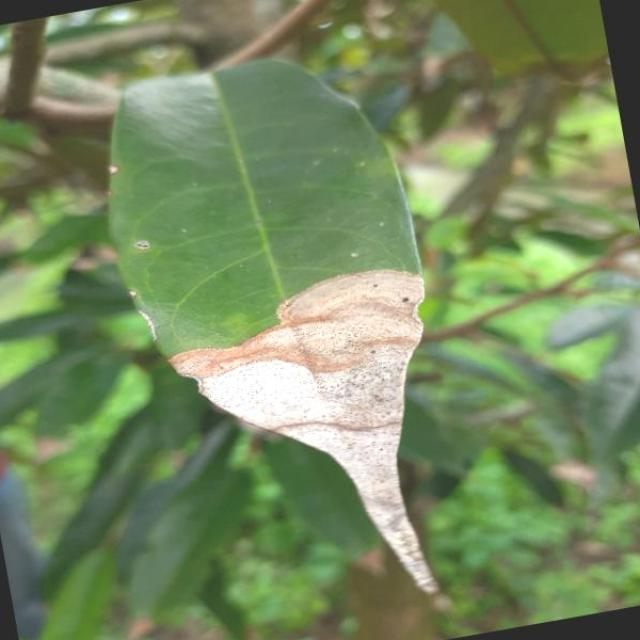Leaf Blight: (72, 22, 490, 640)
